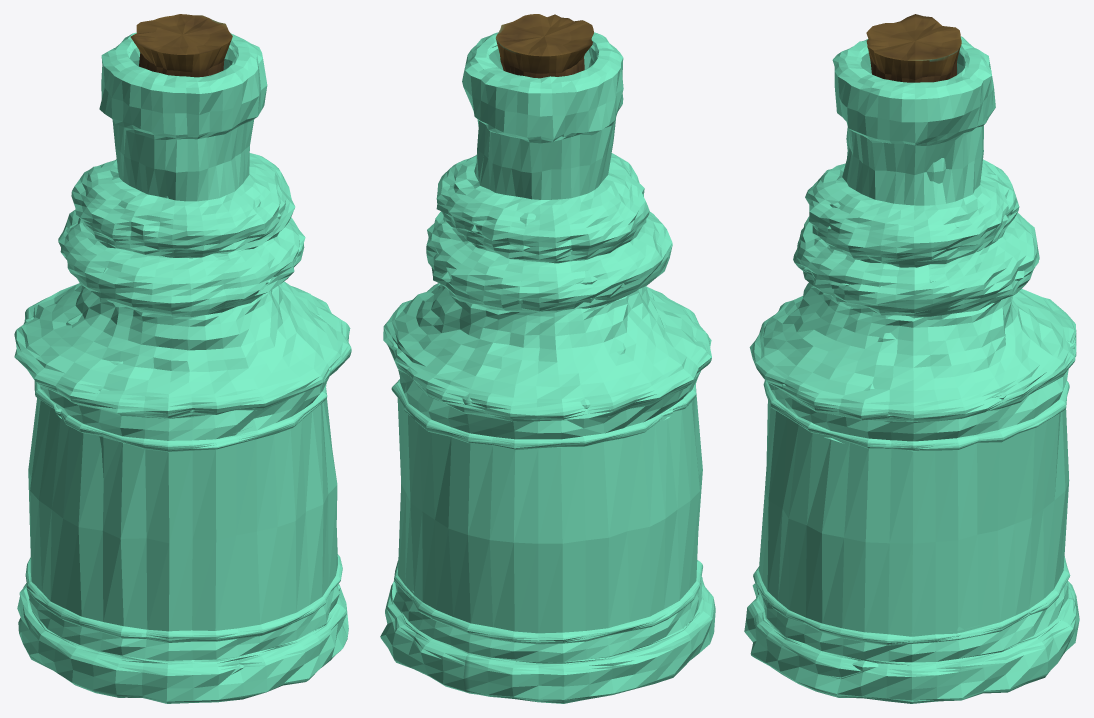
Rendered from crush_medium_1.obj.
3 views of the same model, side by side, from view 1: azimuth 30°, elevation 25°; view 2: azimuth 150°, elevation 25°; view 3: azimuth 270°, elevation 25° (orthographic).
Parts seen in each view (by area): view 1: model; view 2: model; view 3: model.
Boxes of the visible parts, x1=… form: model: x1=14, y1=14, x2=351, y2=703; model: x1=380, y1=14, x2=715, y2=703; model: x1=744, y1=14, x2=1079, y2=703.
Bounding box in the file's own units: 0.0741 × 0.146 × 0.0736.
1 material, 1 textured.
